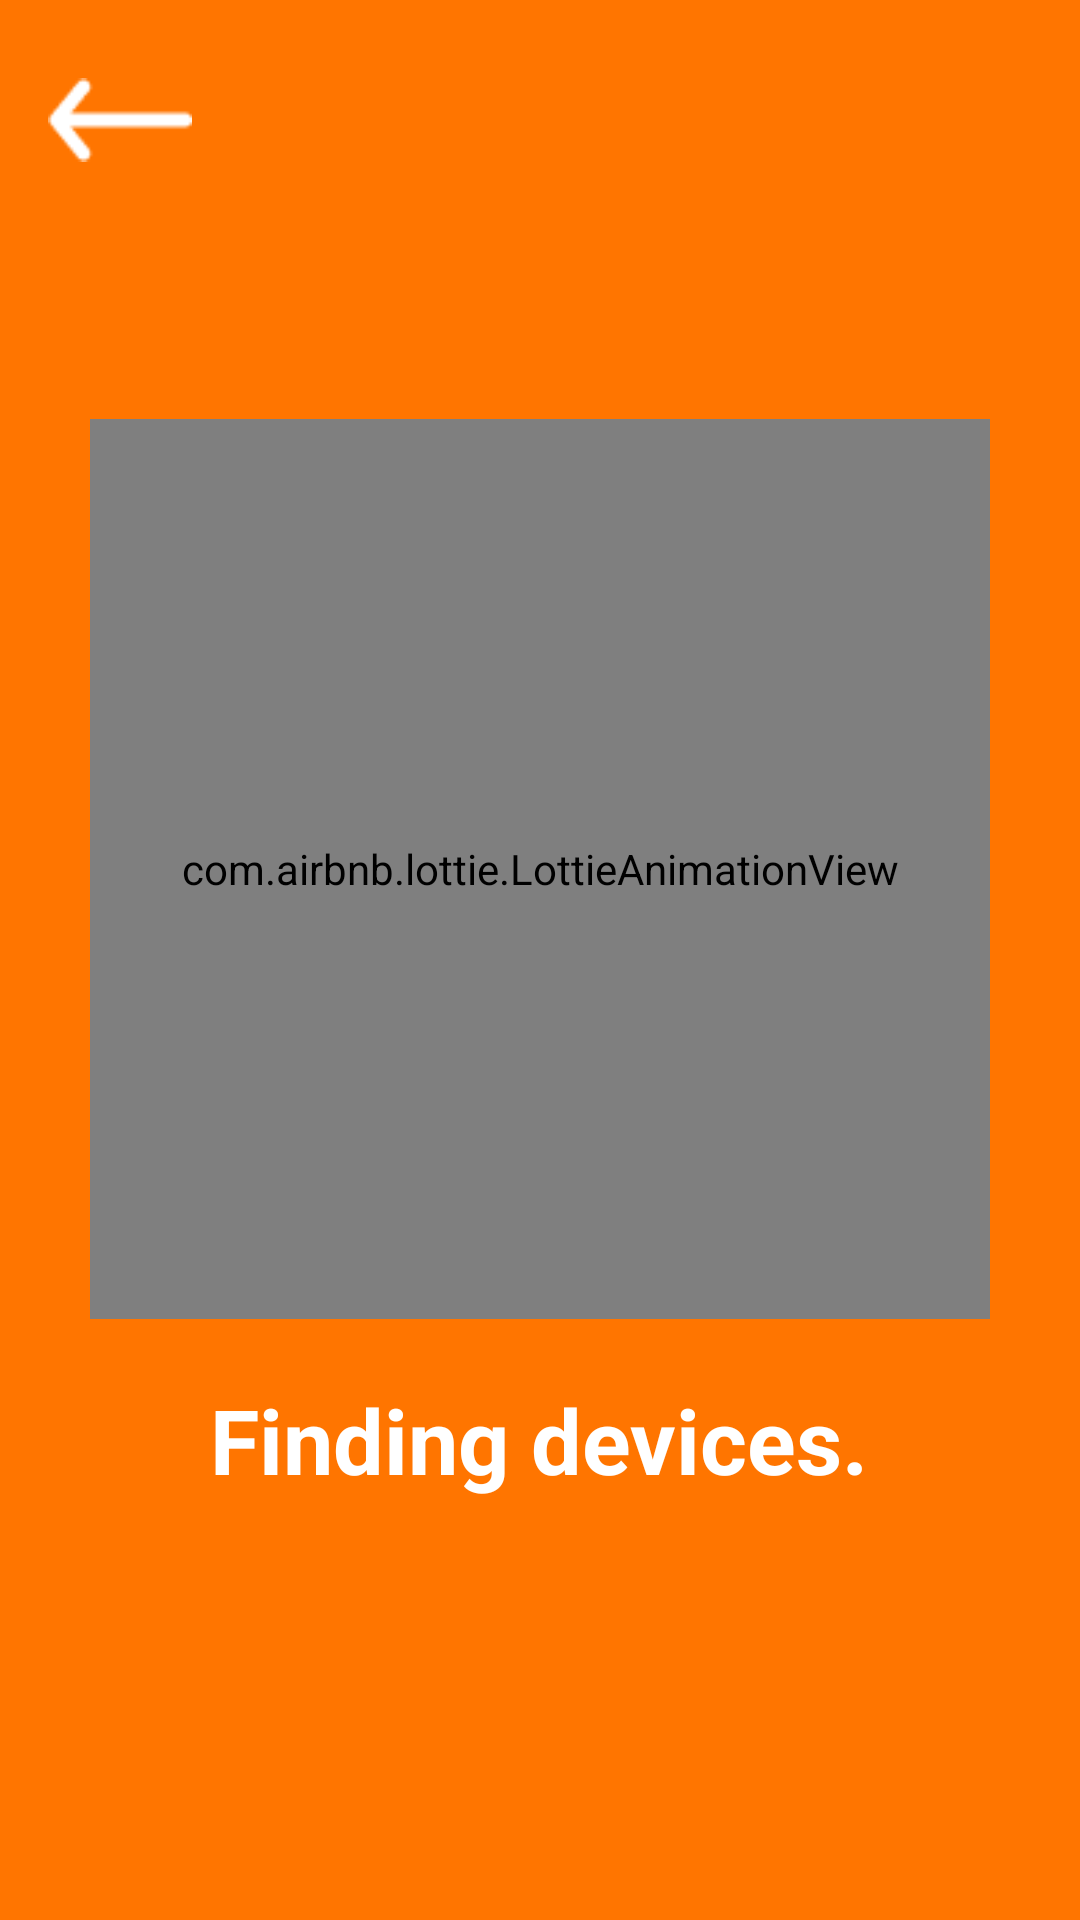

Icons on this 1080px×1920px Android screen, each with the point to tap as point (x, y):
Back button: point (120, 120)
